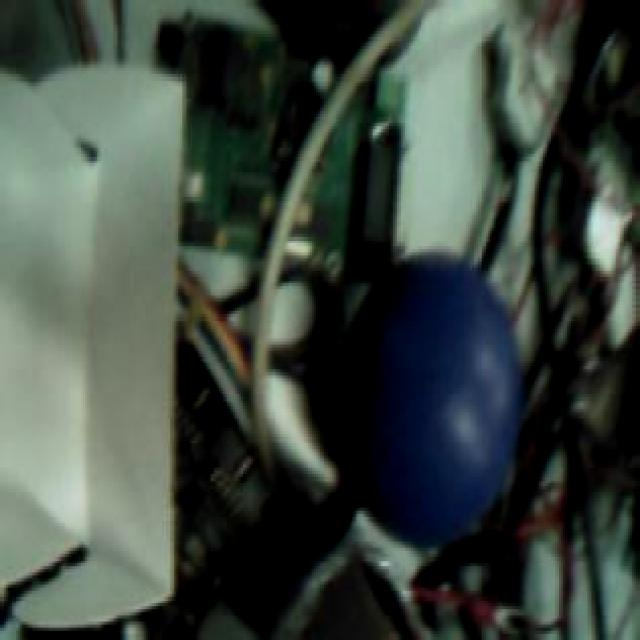BallPurple: (330, 255, 521, 548)
